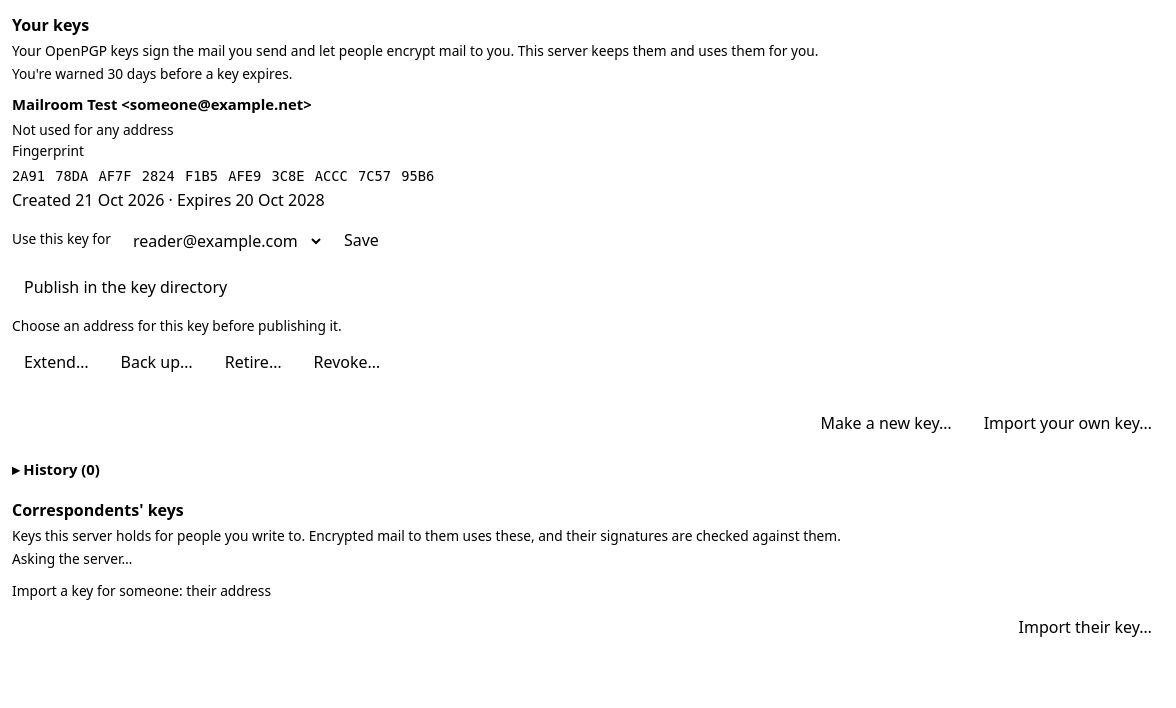
Test case: user IDs (#812) › a bind the server warns about is made, and says the same
Select "reader@example.com" in the dropdown labelled "Use this key for" at coordinates (221, 241), box [119, 221, 324, 261]
Click the button "Save" at coordinates (361, 241), box [332, 221, 391, 260]
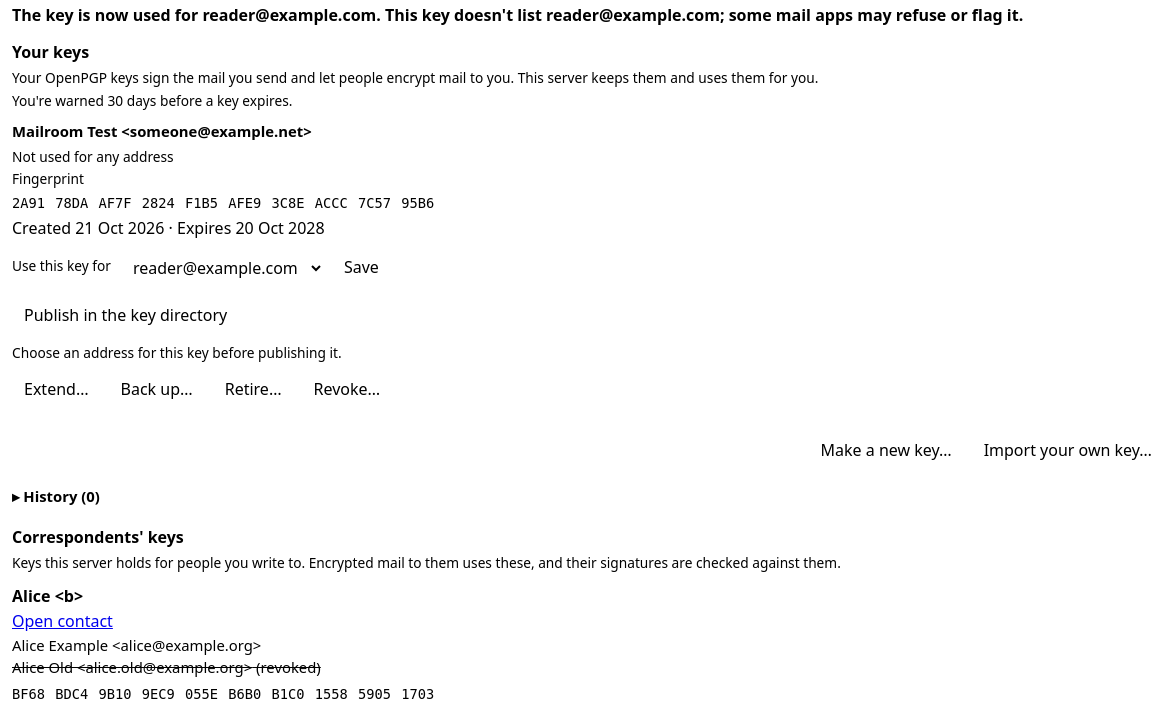
Now the message with class "setting-done" shows "The key is now used for reader@example.com. This key doesn't list reader@example.com; some mail apps may refuse or flag it.", box [12, 4, 1023, 26]
